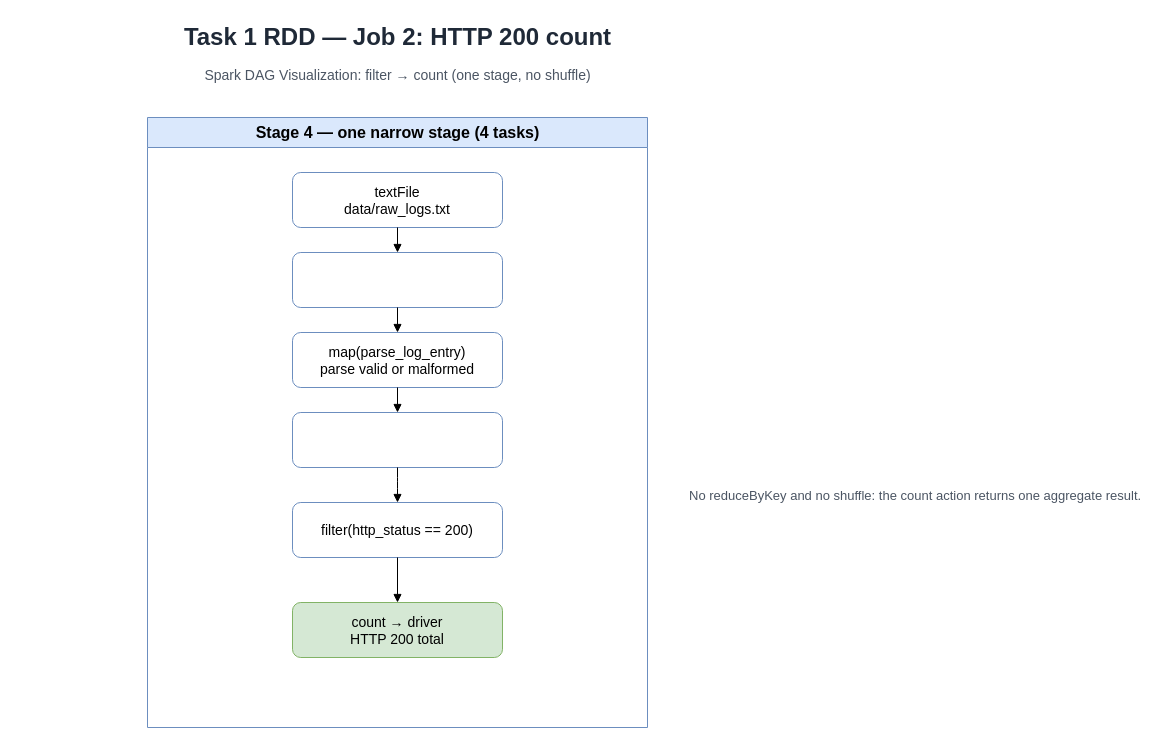
The diagram is 1158 pixels wide and 745 high, and some of its shapes have lost their labels. Here are the shapes that lost their labels. From the top down, the centre of each, then its label:
At point 397,280: "flatMap split compound log lines".
At point 397,440: "map(classify) broadcast CIDR lookup".
